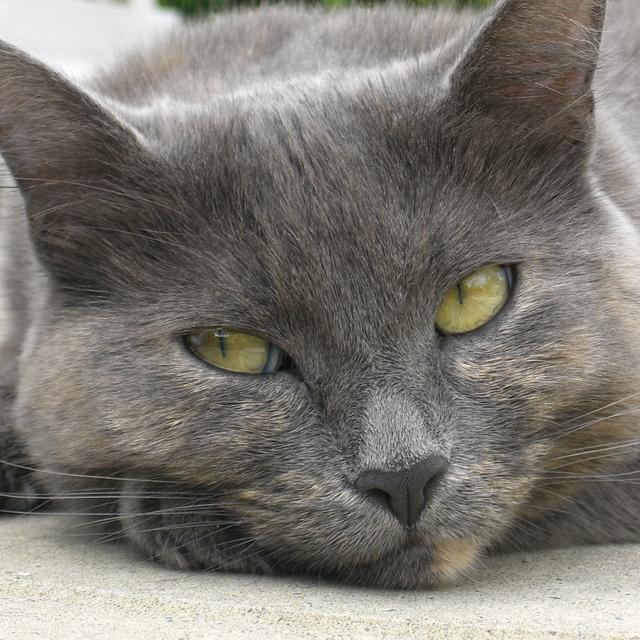animals: (0, 0, 608, 519)
